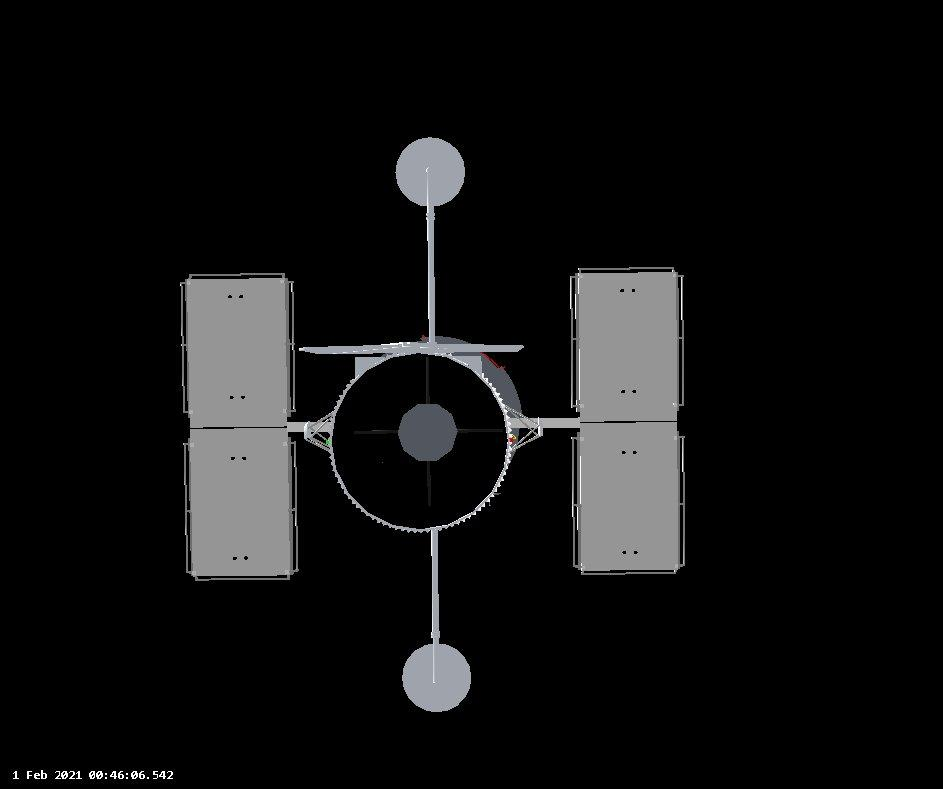antenna: (393, 135, 467, 209), (403, 641, 473, 712)
body: (327, 334, 523, 537)
solar: (179, 269, 302, 586), (564, 263, 687, 578)
